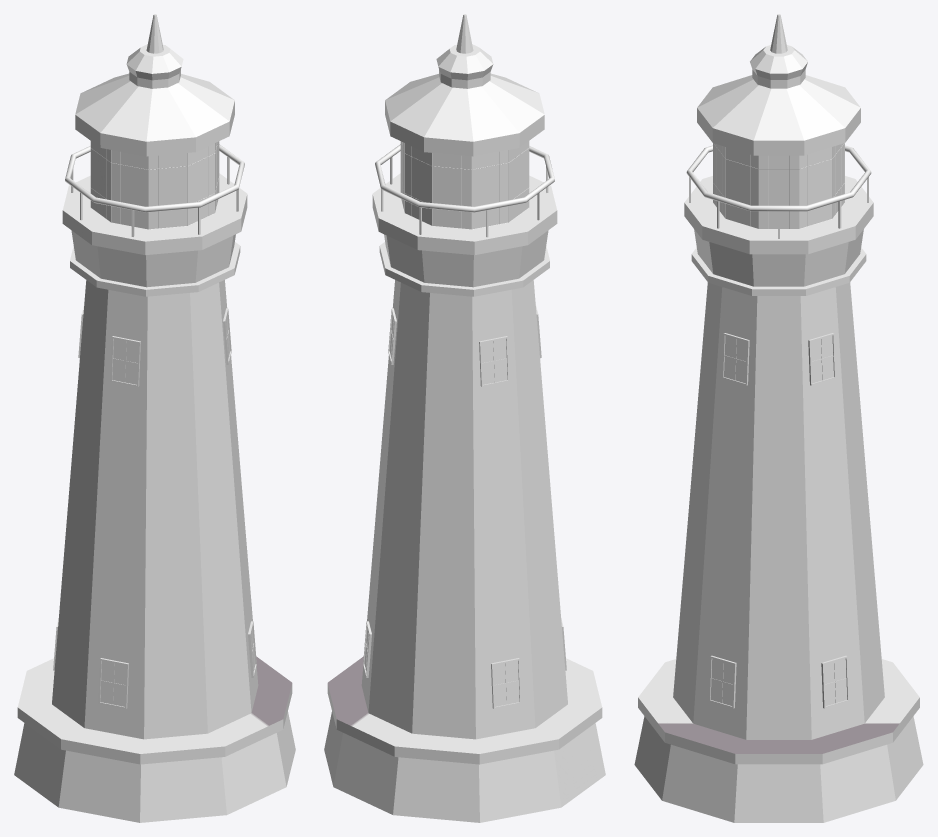
File: Light House.glb
The picture shows the model from 3 angles, left to right: view 1: azimuth 30°, elevation 25°; view 2: azimuth 150°, elevation 25°; view 3: azimuth 270°, elevation 25°; orthographic projection.
Visible parts, largest first — view 1: Circle, Circle.002, Plane.001, Plane, Circle.003; view 2: Circle, Circle.002, Plane.001, Plane, Circle.003; view 3: Circle, Plane.001, Plane, Circle.002, Circle.003.
Boxes of the visible parts, x1,y1,x2,y2 form: Circle: [14, 14, 295, 822]; Circle.002: [65, 144, 244, 236]; Plane.001: [53, 617, 256, 708]; Plane: [78, 304, 231, 386]; Circle.003: [90, 141, 218, 229]; Circle: [324, 14, 605, 822]; Circle.002: [375, 144, 554, 237]; Plane.001: [363, 617, 566, 708]; Plane: [388, 304, 541, 386]; Circle.003: [401, 141, 529, 229]; Circle: [634, 14, 923, 822]; Plane.001: [708, 655, 849, 708]; Plane: [722, 333, 835, 385]; Circle.002: [686, 145, 871, 238]; Circle.003: [713, 143, 844, 228].
Size of the model in its own units: 4.26 by 12.83 by 4.48.
Materials: 1 (1 with a texture image).
